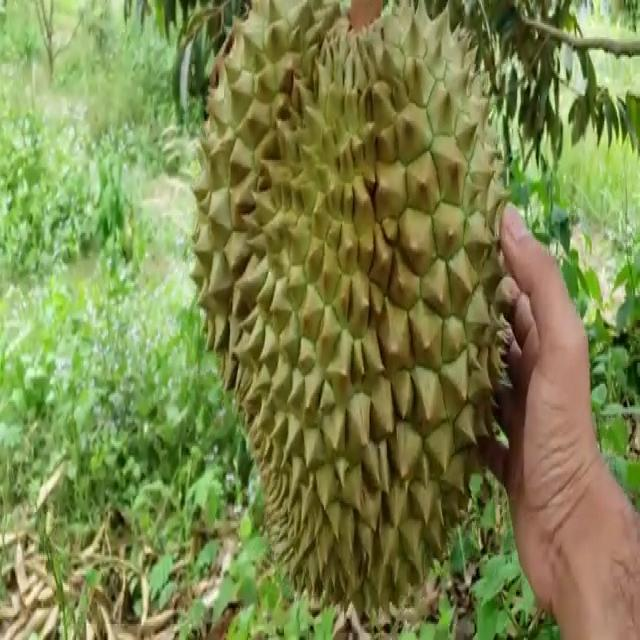durian: (184, 0, 517, 629)
